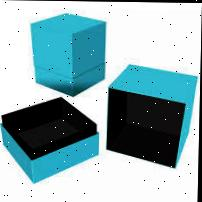cube: (29, 13, 109, 94)
